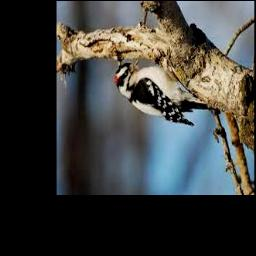Woodpecker: (115, 58, 220, 125)
